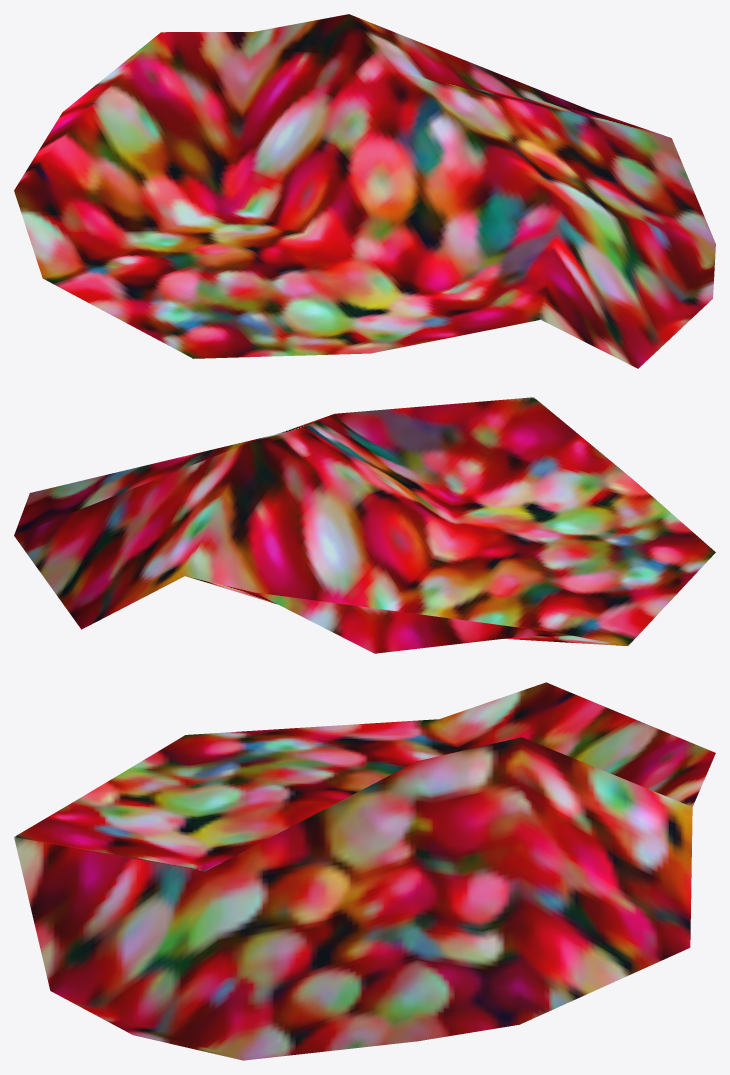
Rendered from farm_input_GEO_01.fbx.
3 views of the same model, one above another, from view 1: azimuth 30°, elevation 25°; view 2: azimuth 150°, elevation 25°; view 3: azimuth 270°, elevation 25° (orthographic). The views are drawn at different scales.
Visible parts, largest first — view 1: fungus_Input_GEO_01; view 2: fungus_Input_GEO_01; view 3: fungus_Input_GEO_01.
Part boxes in pixels (<box>): fungus_Input_GEO_01: <box>14,14,715,368</box>; fungus_Input_GEO_01: <box>14,397,715,653</box>; fungus_Input_GEO_01: <box>14,682,715,1060</box>.
Bounding box in the file's own units: 1.44 × 0.4636 × 1.34.
Materials: 1 (1 with a texture image).
